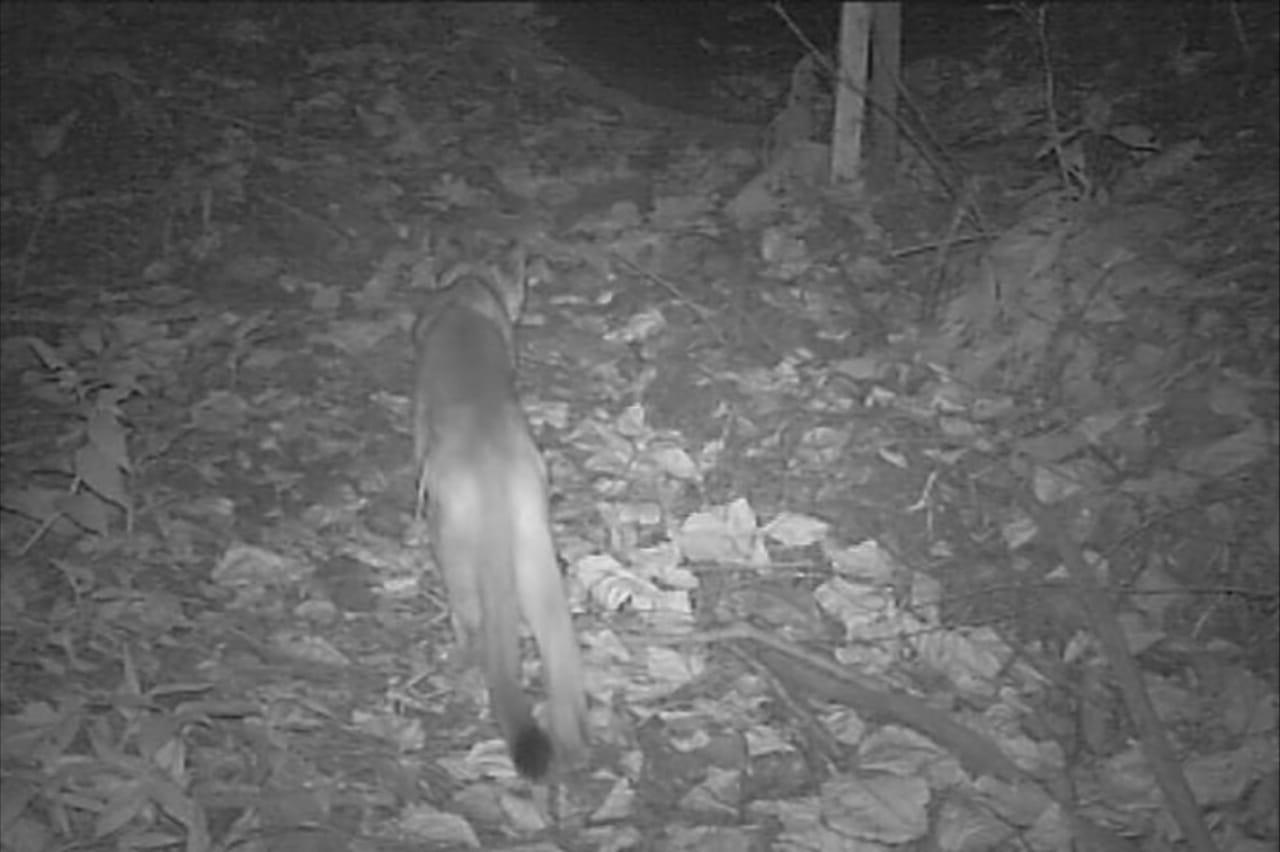OncaParda: (383, 231, 625, 803)
